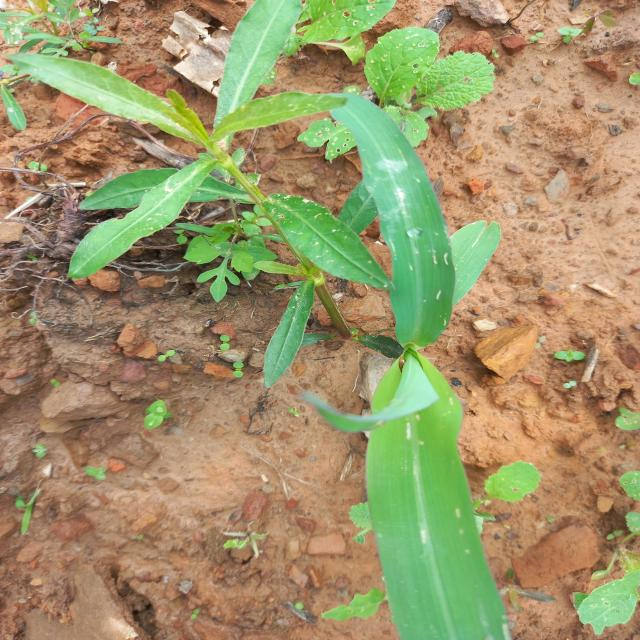maize: (283, 66, 517, 640)
weed: (3, 14, 271, 272), (349, 28, 508, 149), (472, 448, 550, 510)
